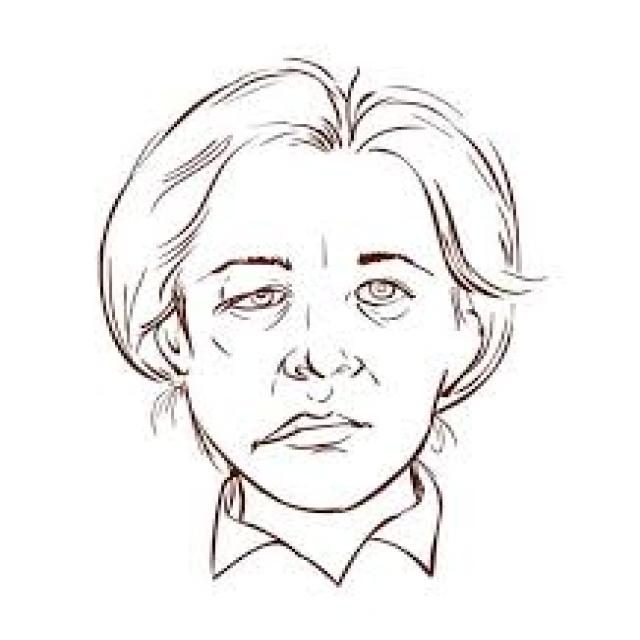stroke_face: (153, 61, 463, 556)
